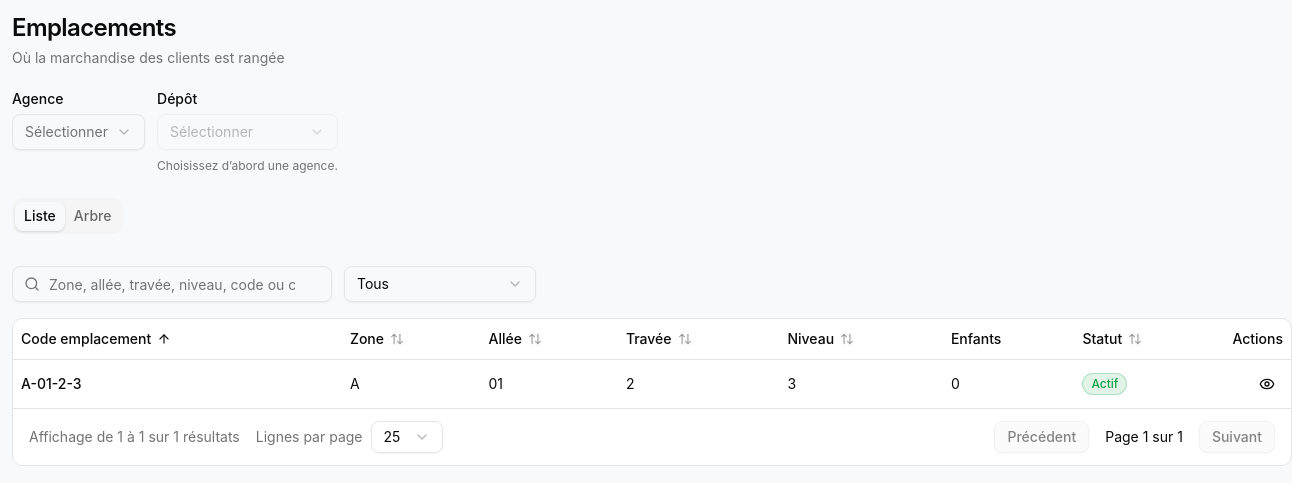
Test case: emplacements de stock › déroule la hiérarchie une fois le dépôt choisi
Expected: the text "A-01-2-3" is shown, top-left (21, 374), bottom-right (82, 392)
Click the dropdown named "Agence" at (78, 132), box top-left (12, 114), bottom-right (145, 150)
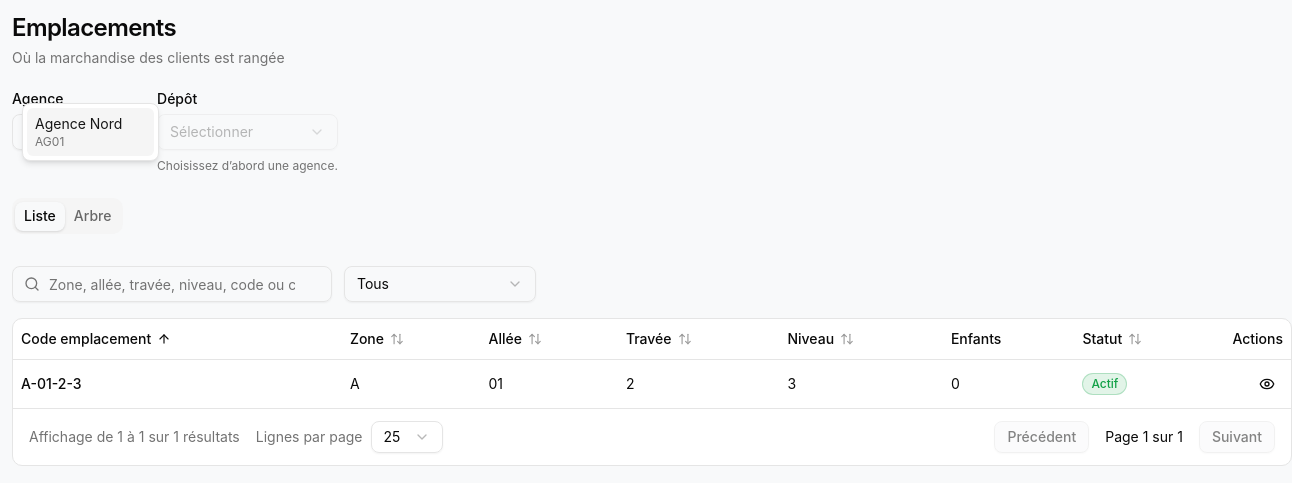
Click the option "Agence Nord AG01" at (91, 132), box top-left (27, 108), bottom-right (154, 156)
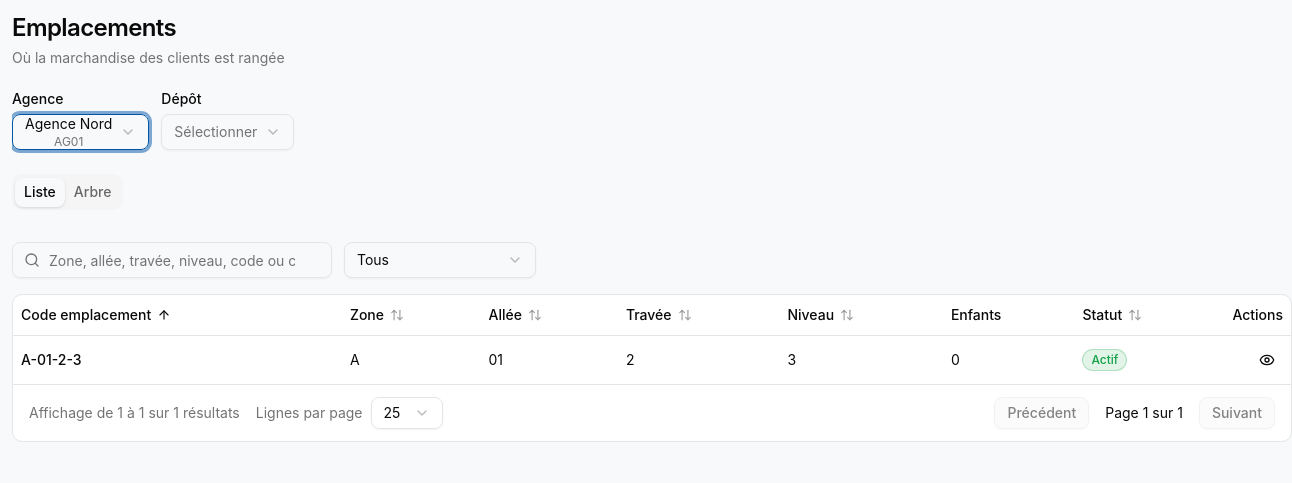
Click the dropdown named "Dépôt" at (228, 132), box top-left (161, 114), bottom-right (294, 150)
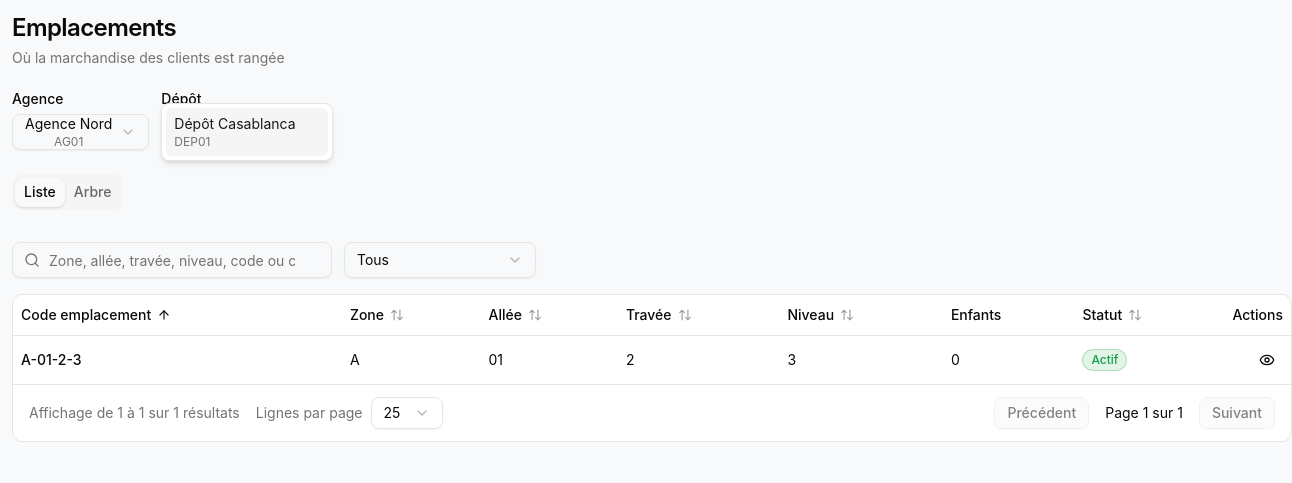
Click the option "Dépôt Casablanca DEP01" at (247, 132), box top-left (166, 108), bottom-right (328, 156)
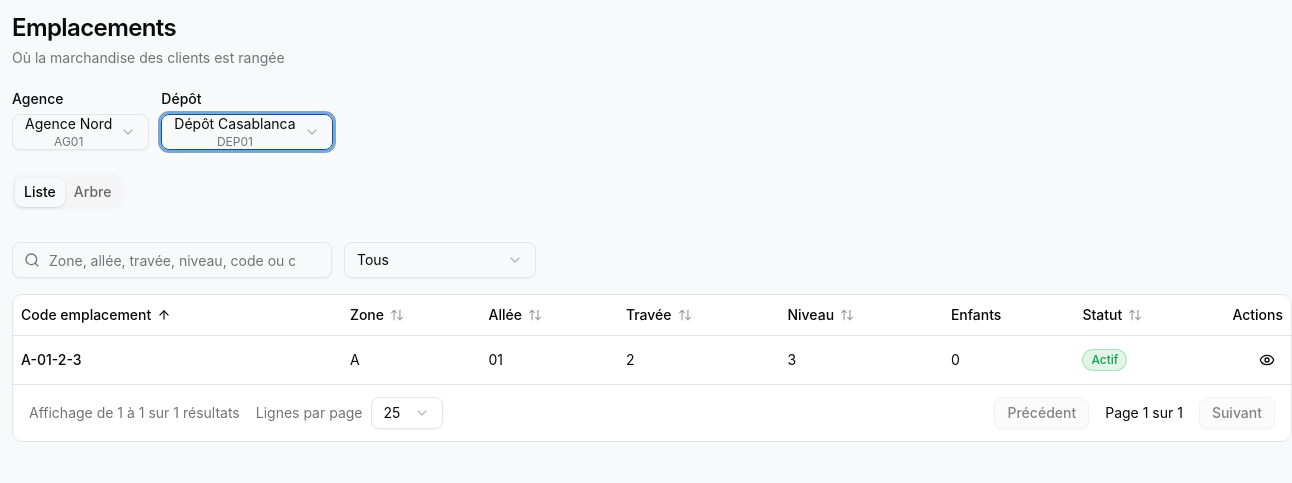
Click the tab "Arbre" at (93, 192), box top-left (65, 178), bottom-right (120, 206)
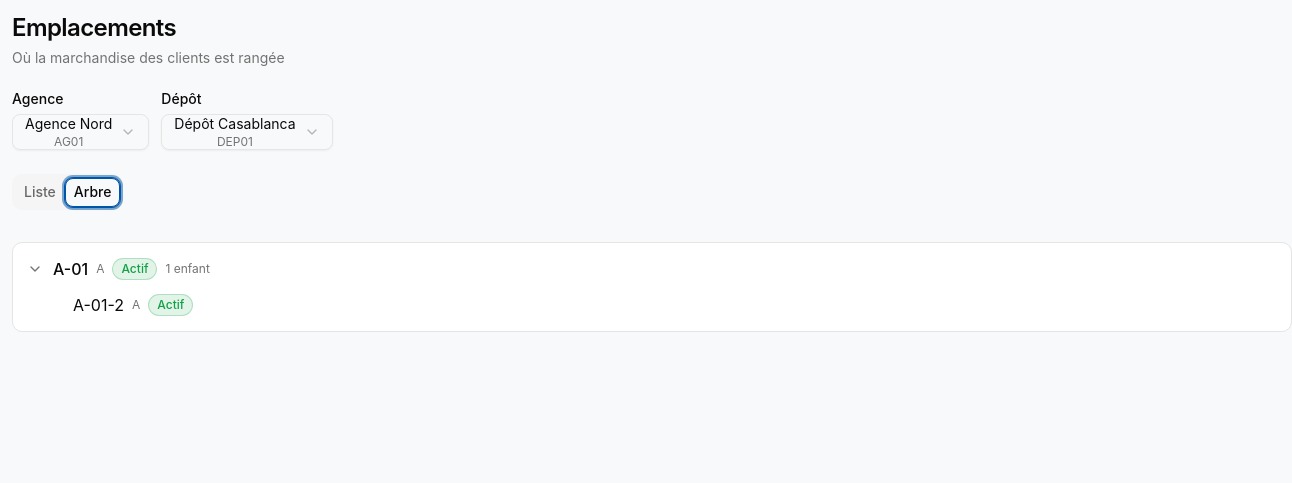
Expected: the link "A-01-2" is shown, top-left (73, 293), bottom-right (124, 317)
Expected: the link "A-01" is shown, top-left (53, 257), bottom-right (88, 281)
